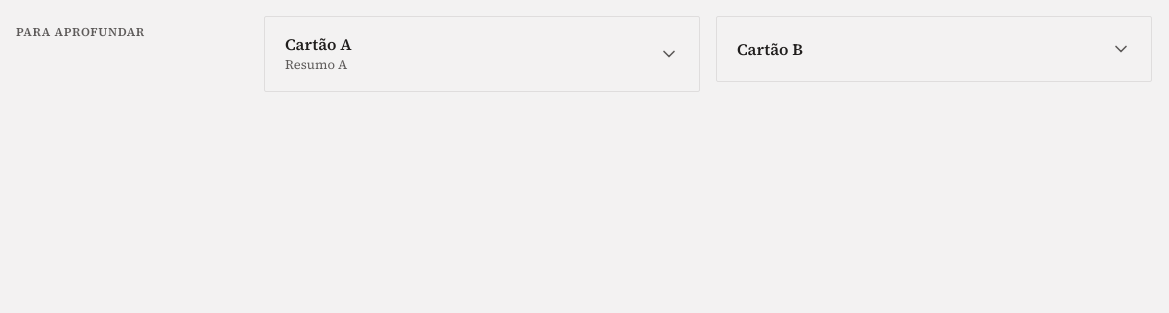
GrupoCartoes e ColunasComPainel › dentro do grupo, o botão continua no desktop e o conteúdo abre no lugar
Click the button "Cartão A Resumo A". click: [318, 44]
box: left=285, top=21, right=679, bottom=87
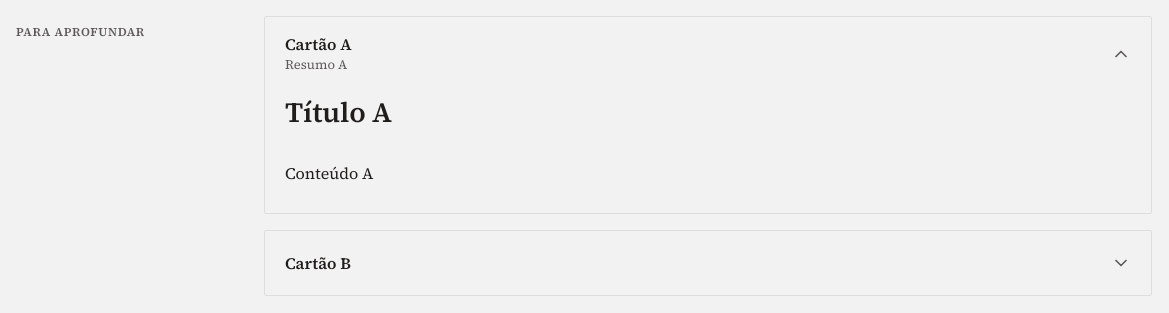
Expected: the element with id "cartao-a" has class "lg:basis-full", left=264, top=16, right=1152, bottom=214
